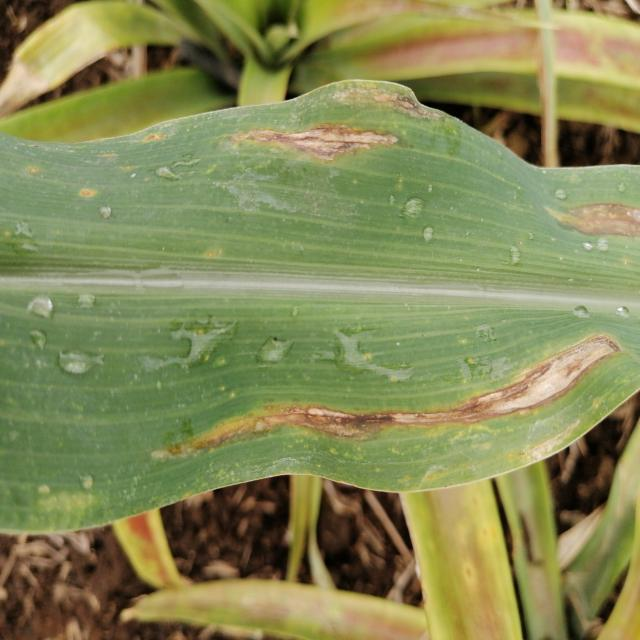Corn_Leaf_Blight: (0, 81, 640, 522)
